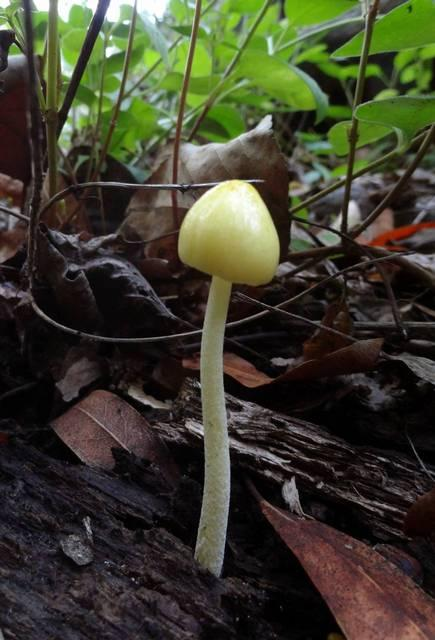Edible Mushroom: (175, 177, 281, 577)
